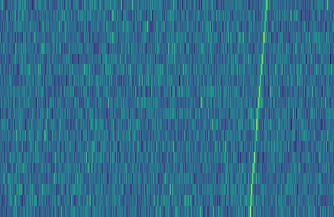signal: (246, 0, 273, 217)
